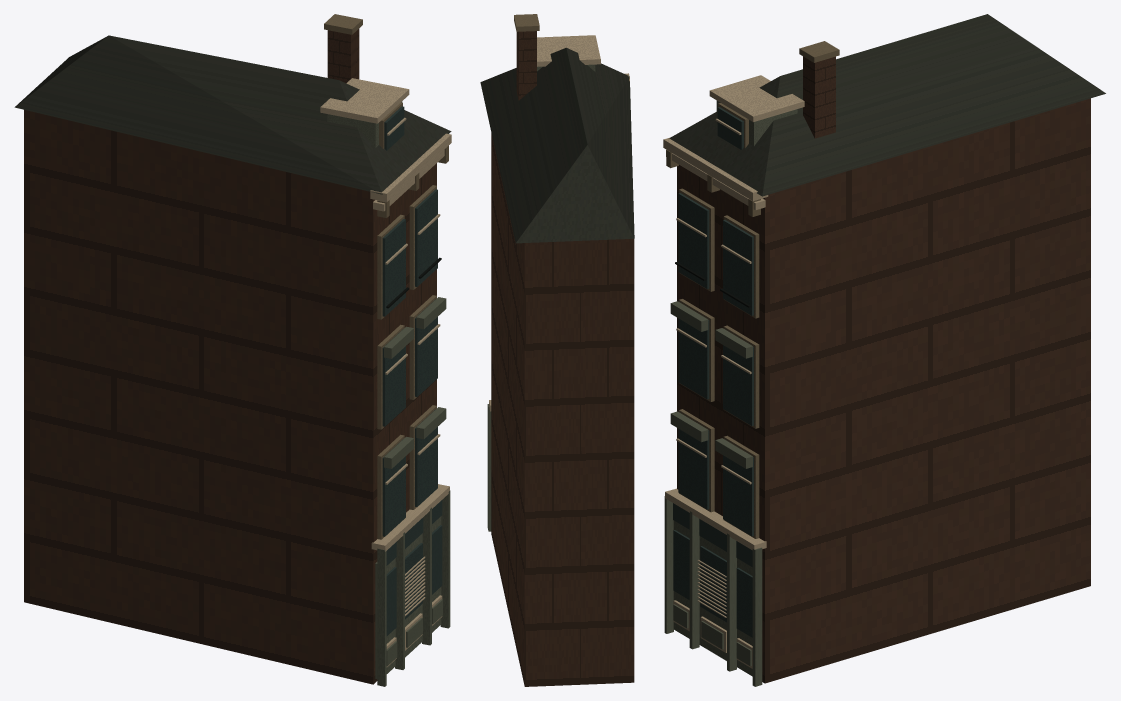
3 views of the same model, side by side, from view 1: azimuth 30°, elevation 25°; view 2: azimuth 150°, elevation 25°; view 3: azimuth 270°, elevation 25° (orthographic). The views are drawn at different scales.
Parts seen in each view (by area): view 1: nieuwehaven23-0, nieuwehaven23-1, nieuwehaven23-3, nieuwehaven23-5, nieuwehaven23-4, nieuwehaven23-2; view 2: nieuwehaven23-0, nieuwehaven23-1, nieuwehaven23-4, nieuwehaven23-5, nieuwehaven23-2; view 3: nieuwehaven23-0, nieuwehaven23-1, nieuwehaven23-3, nieuwehaven23-5, nieuwehaven23-4, nieuwehaven23-2.
Part boxes in pixels (x1=…): nieuwehaven23-0: x1=24, y1=29, x2=436, y2=684; nieuwehaven23-1: x1=14, y1=35, x2=451, y2=194; nieuwehaven23-3: x1=382, y1=106, x2=442, y2=636; nieuwehaven23-5: x1=327, y1=101, x2=450, y2=686; nieuwehaven23-4: x1=320, y1=78, x2=451, y2=667; nieuwehaven23-2: x1=324, y1=14, x2=448, y2=539; nieuwehaven23-0: x1=491, y1=31, x2=634, y2=686; nieuwehaven23-1: x1=480, y1=47, x2=634, y2=243; nieuwehaven23-4: x1=489, y1=35, x2=629, y2=411; nieuwehaven23-5: x1=487, y1=64, x2=595, y2=531; nieuwehaven23-2: x1=514, y1=14, x2=539, y2=31; nieuwehaven23-0: x1=677, y1=56, x2=1090, y2=683; nieuwehaven23-1: x1=669, y1=14, x2=1105, y2=196; nieuwehaven23-3: x1=673, y1=107, x2=753, y2=637; nieuwehaven23-5: x1=664, y1=100, x2=797, y2=686; nieuwehaven23-4: x1=663, y1=75, x2=804, y2=668; nieuwehaven23-2: x1=666, y1=41, x2=839, y2=538.
Bounding box in the file's own units: 7.91 × 14.96 × 9.98.
7 materials, 7 textured.
